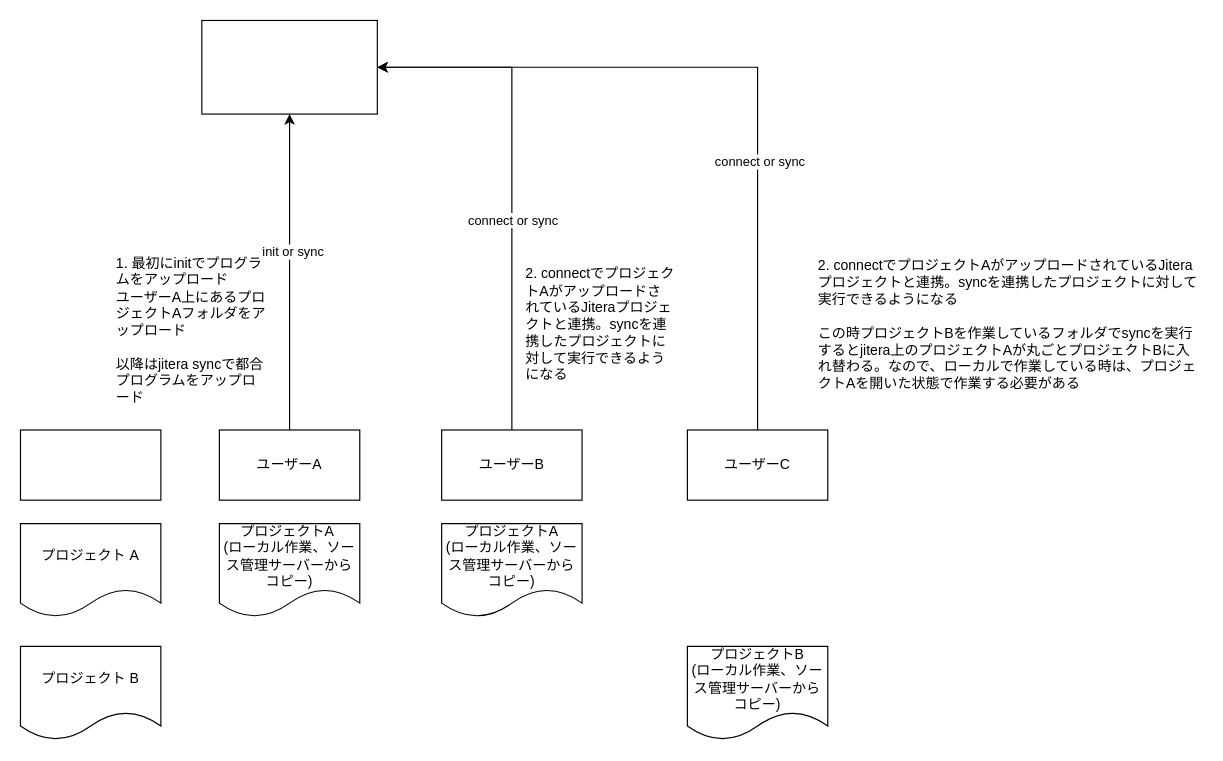
Image size: 1223x761. Some labels were removed from this diagram. Each missing label, with the centre of its shape:
Jitera (プロジェクトAがアップロードされている): point (289, 66)
ソース管理サーバー: point (90, 464)
